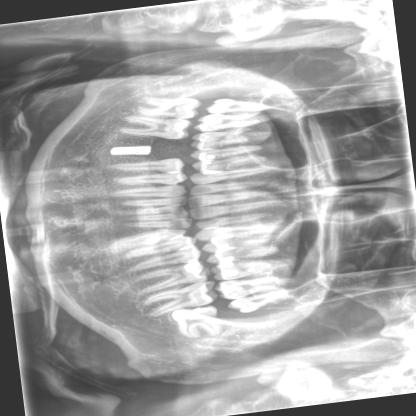ITI: (106, 140, 152, 162)
